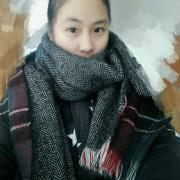WRONG: (53, 12, 117, 76)
